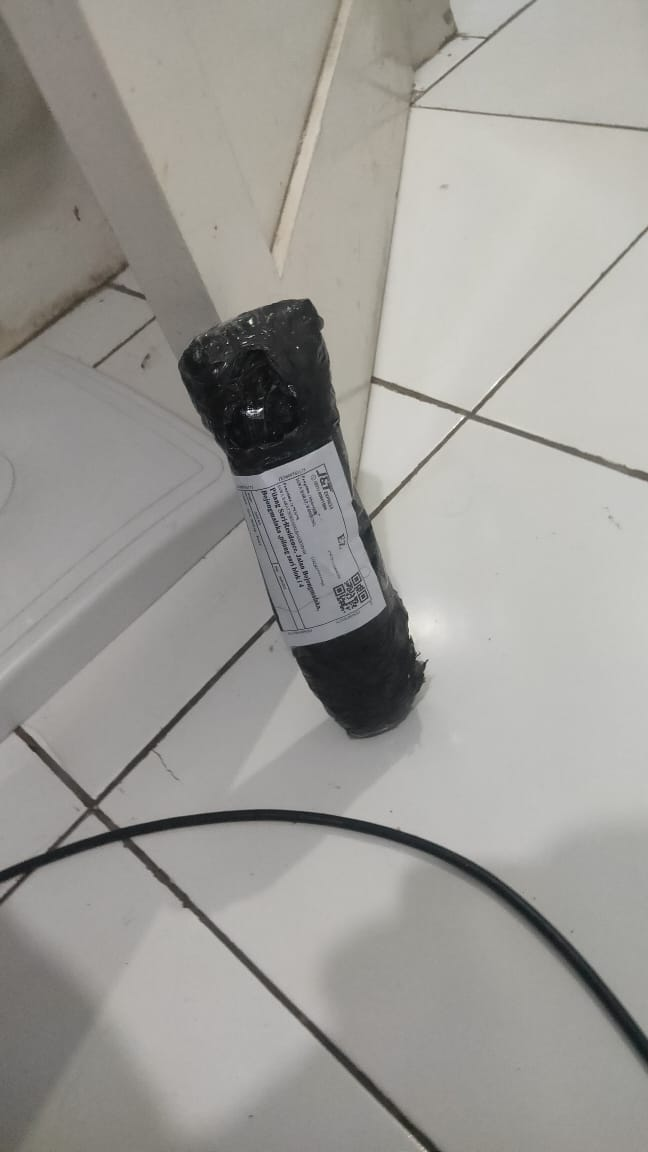damaged package: (221, 342, 312, 452)
undamaged: (179, 298, 427, 743)
